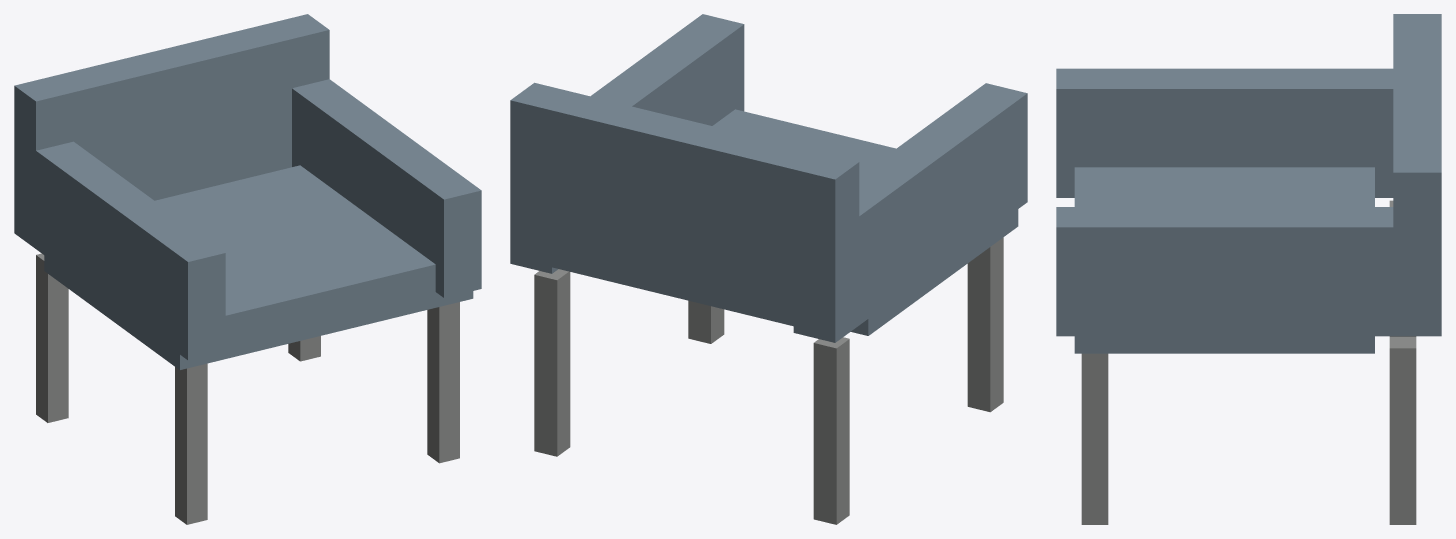
Rendered from armchair.glb.
The picture shows the model from 3 angles, left to right: view 1: azimuth 30°, elevation 25°; view 2: azimuth 150°, elevation 25°; view 3: azimuth 270°, elevation 25°; orthographic projection. The views are drawn at different scales.
Parts seen in each view (by area): view 1: armchair_back, armchair_seat, armchair_arm_0, armchair_arm_1, armchair_leg_0_1, armchair_leg_1_1, armchair_leg_0_0, armchair_leg_1_0; view 2: armchair_back, armchair_arm_0, armchair_arm_1, armchair_leg_1_0, armchair_seat, armchair_leg_0_0, armchair_leg_0_1, armchair_leg_1_1; view 3: armchair_arm_1, armchair_arm_0, armchair_seat, armchair_back, armchair_leg_1_0, armchair_leg_1_1.
Part boxes in pixels (x1,y1,x2,y2): armchair_back: (14, 14, 329, 242); armchair_seat: (44, 165, 473, 369); armchair_arm_0: (14, 135, 225, 360); armchair_arm_1: (292, 79, 481, 297); armchair_leg_0_1: (175, 363, 207, 524); armchair_leg_1_1: (427, 302, 459, 463); armchair_leg_0_0: (36, 253, 68, 422); armchair_leg_1_0: (288, 336, 320, 361); armchair_back: (510, 82, 859, 336); armchair_arm_0: (793, 83, 1027, 342); armchair_arm_1: (510, 14, 744, 273); armchair_leg_1_0: (534, 269, 570, 456); armchair_seat: (712, 109, 1018, 335); armchair_leg_0_0: (813, 337, 849, 524); armchair_leg_0_1: (967, 237, 1003, 412); armchair_leg_1_1: (688, 300, 724, 343); armchair_arm_1: (1056, 207, 1441, 336); armchair_arm_0: (1056, 68, 1393, 197); armchair_seat: (1074, 167, 1374, 353); armchair_back: (1393, 14, 1441, 329); armchair_leg_1_0: (1389, 337, 1416, 524); armchair_leg_1_1: (1081, 353, 1108, 524).
Bounding box in the file's own units: 0.78 × 0.82 × 0.8.
